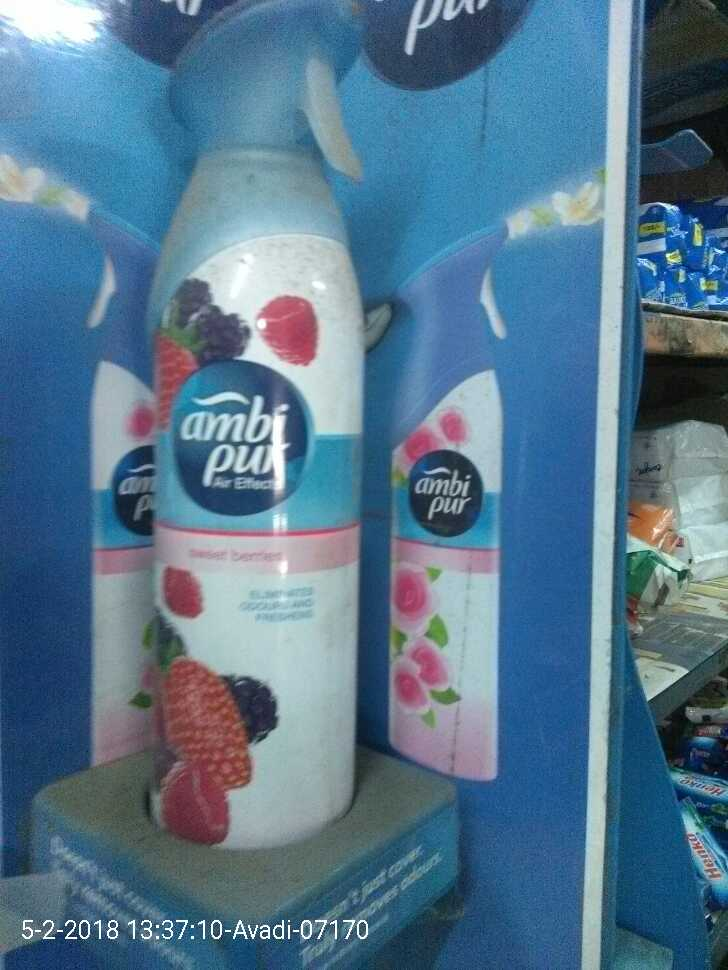ambipure: (145, 4, 369, 851)
